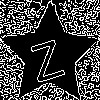Z: (25, 30, 66, 83)
